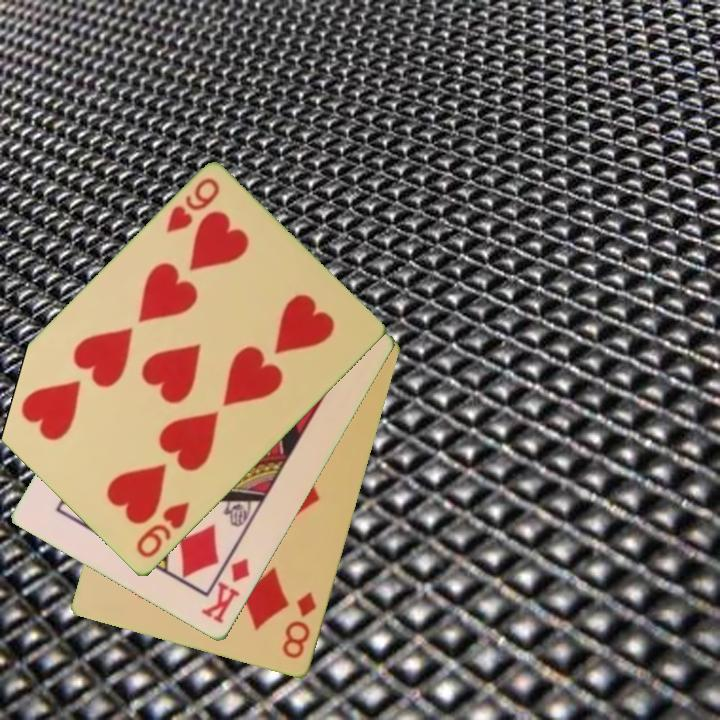8d: (279, 589, 320, 662)
9h: (132, 498, 192, 562), (162, 174, 223, 236)
Kd: (197, 555, 253, 628)
